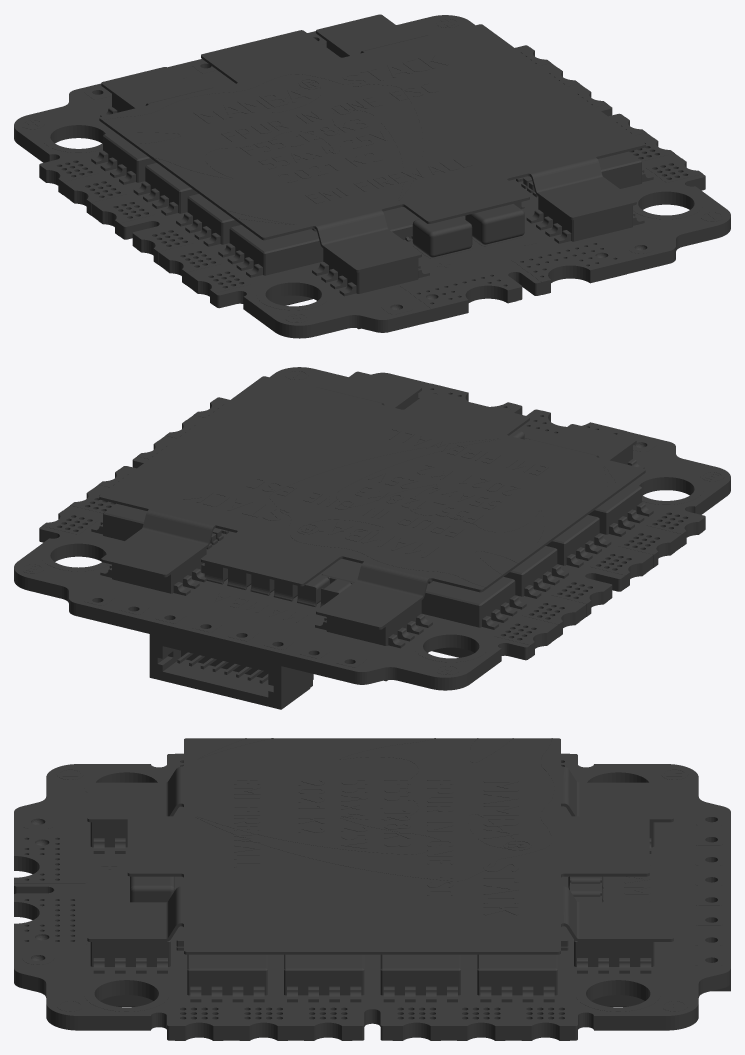
The model's file is esc-mamba-f55a.glb.
The picture shows the model from 3 angles, top to bottom: view 1: azimuth 30°, elevation 25°; view 2: azimuth 150°, elevation 25°; view 3: azimuth 270°, elevation 25°; orthographic projection. The views are drawn at different scales.
Visible parts, largest first — view 1: world; view 2: world; view 3: world.
Part boxes in pixels (box(x1,y1,x2,y2)): world: box(14, 14, 730, 338); world: box(14, 367, 730, 709); world: box(14, 738, 730, 1040).
Size of the model in its own units: 0.04 by 0.00752 by 0.0445.
Materials: 1 (1 with a texture image).
